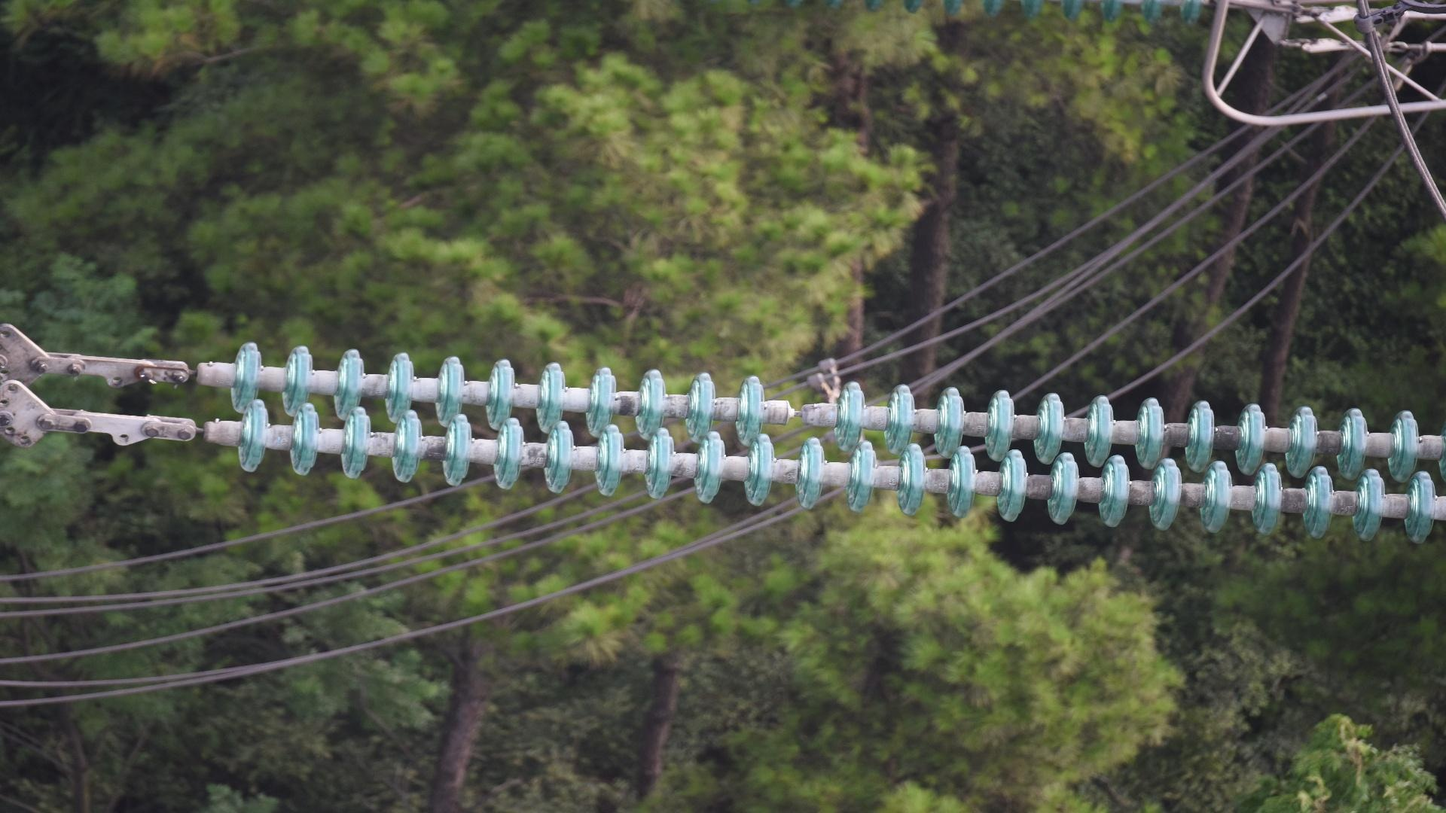insulator: (226, 334, 1446, 548)
